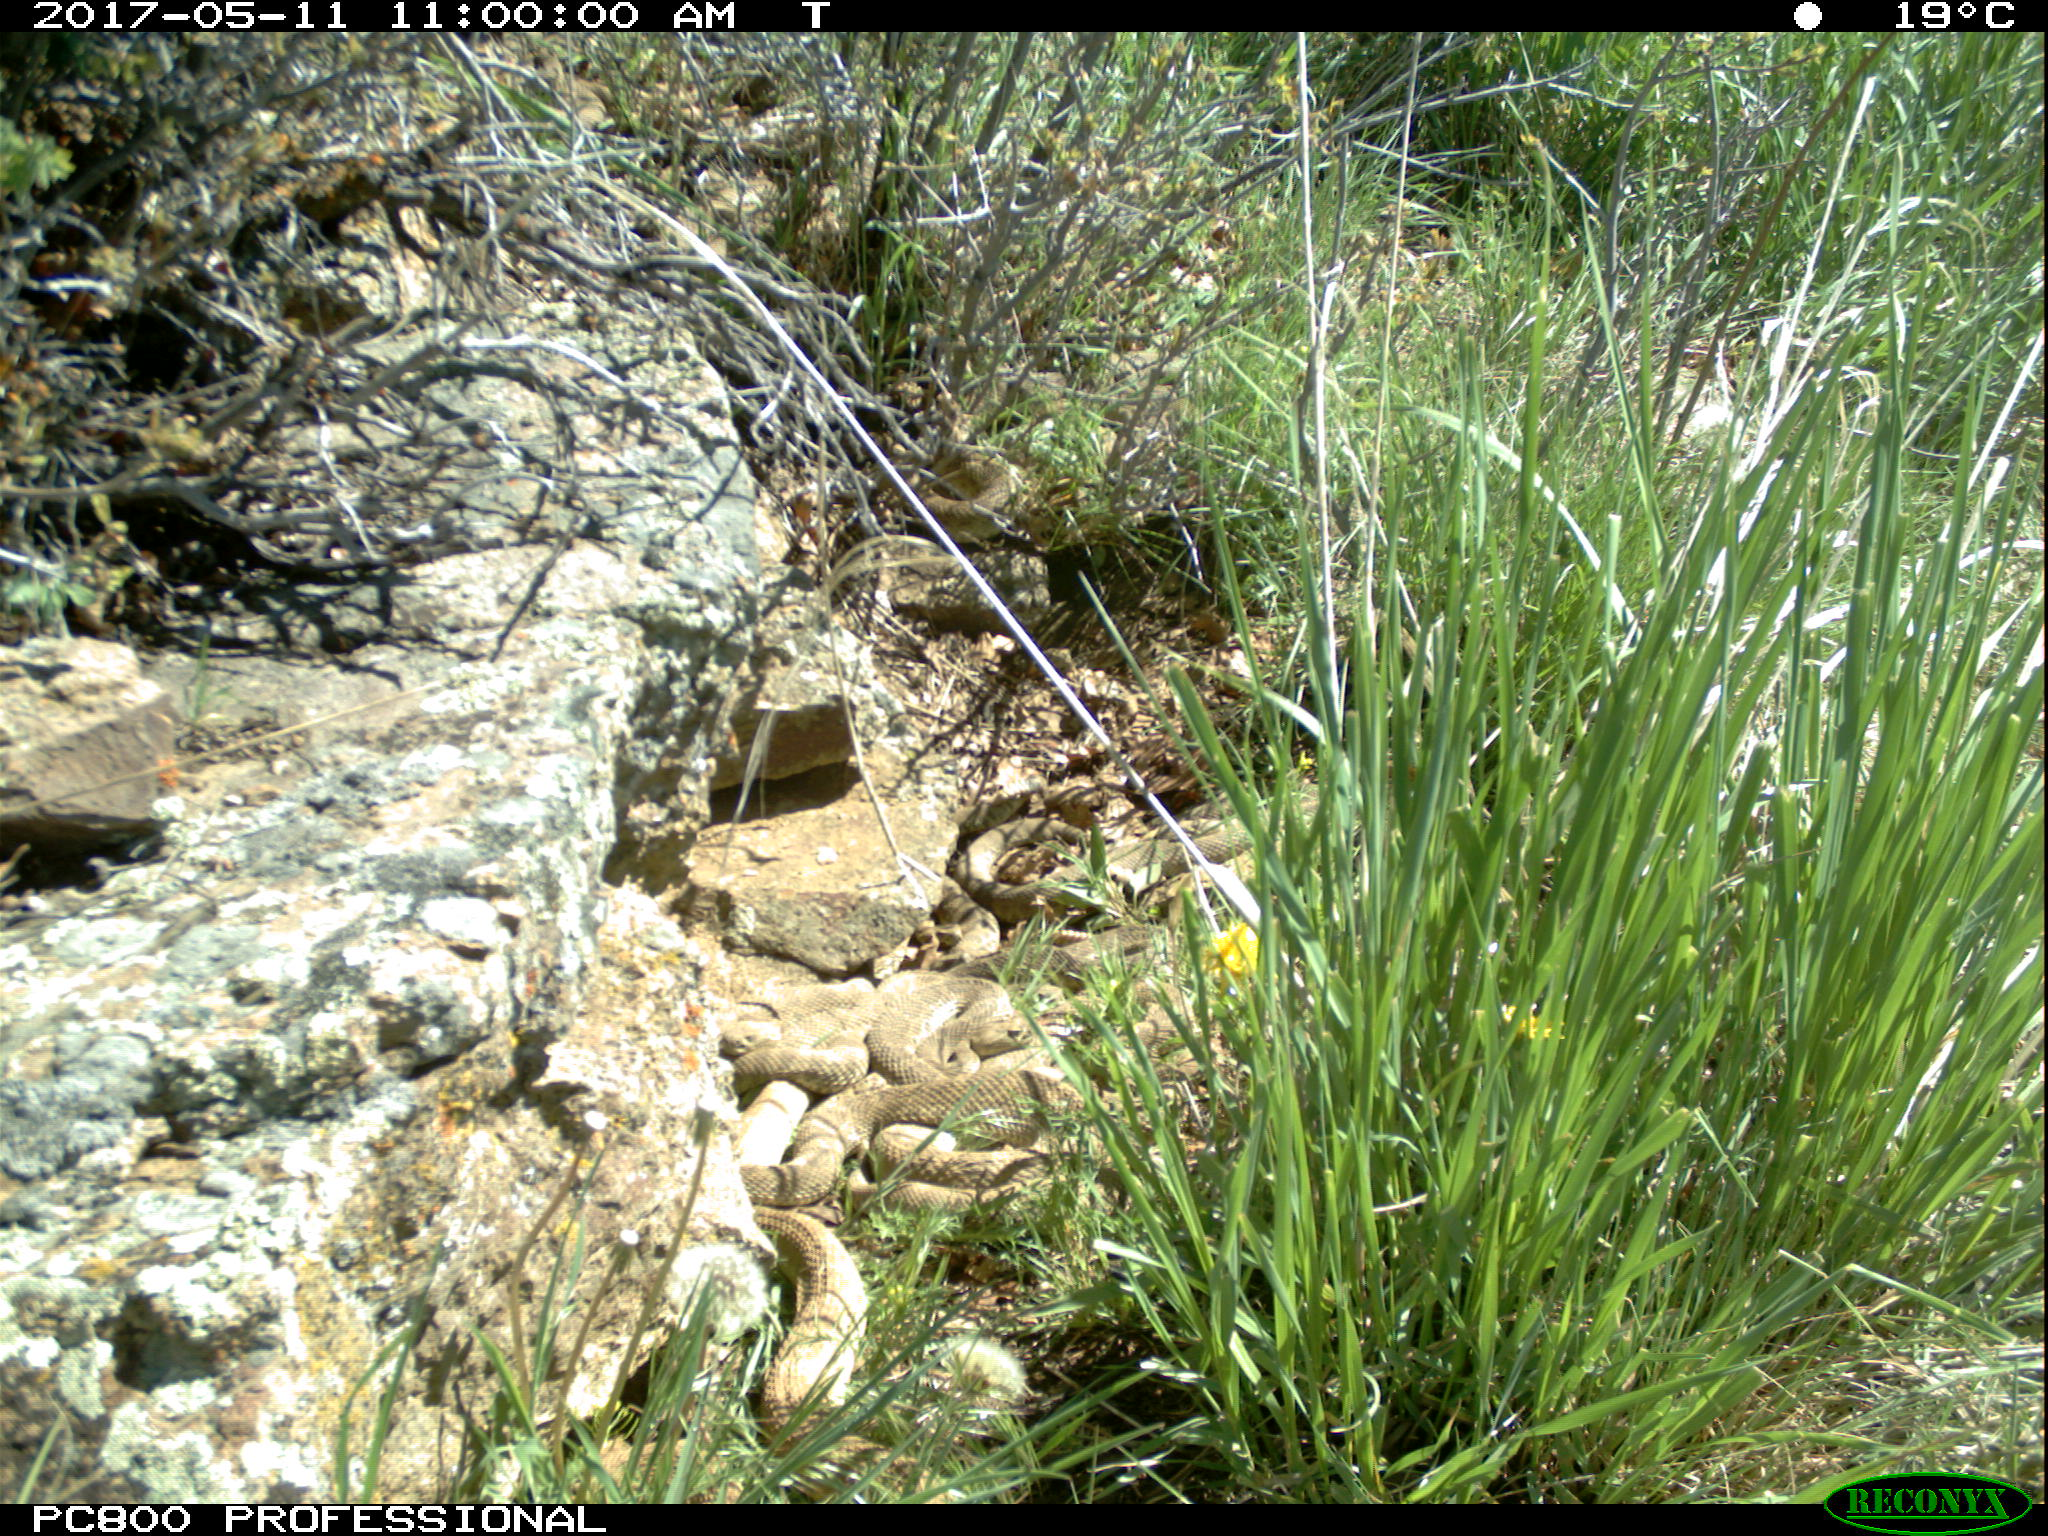snake: (748, 1066, 1101, 1205), (751, 1202, 884, 1496), (732, 975, 1043, 1089), (951, 815, 1248, 916), (872, 978, 1048, 1092), (718, 976, 872, 1092), (892, 449, 1027, 539)
